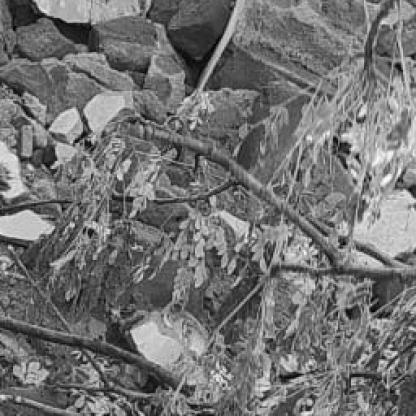cementitious_debris: (4, 5, 375, 194), (6, 207, 273, 373), (239, 119, 357, 224), (4, 335, 99, 404), (356, 194, 413, 257), (208, 188, 277, 222), (162, 150, 218, 186)
